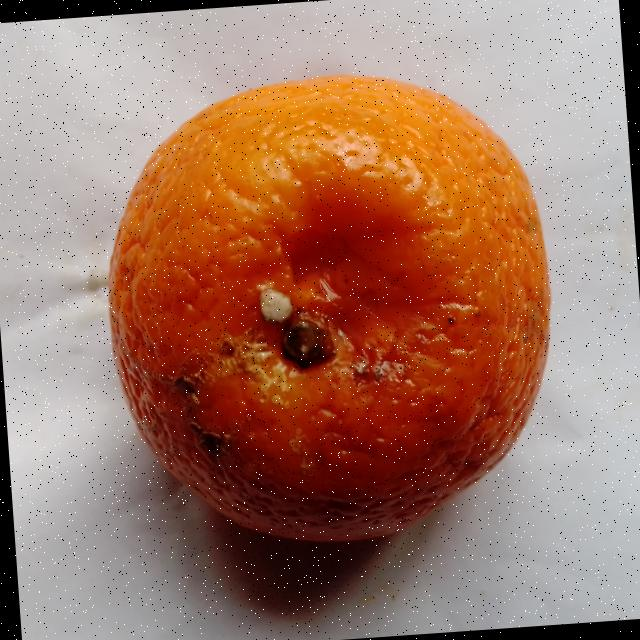Rotten: (93, 58, 566, 552)
